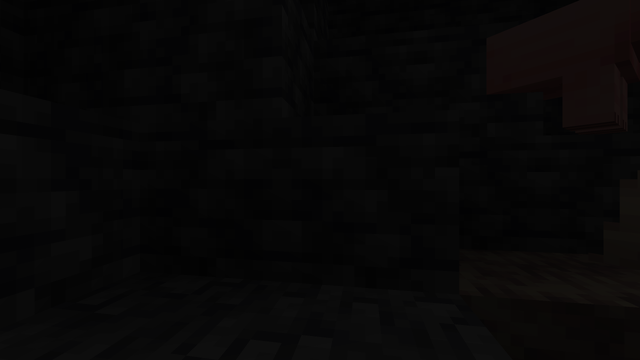cochons: (485, 0, 632, 139)
